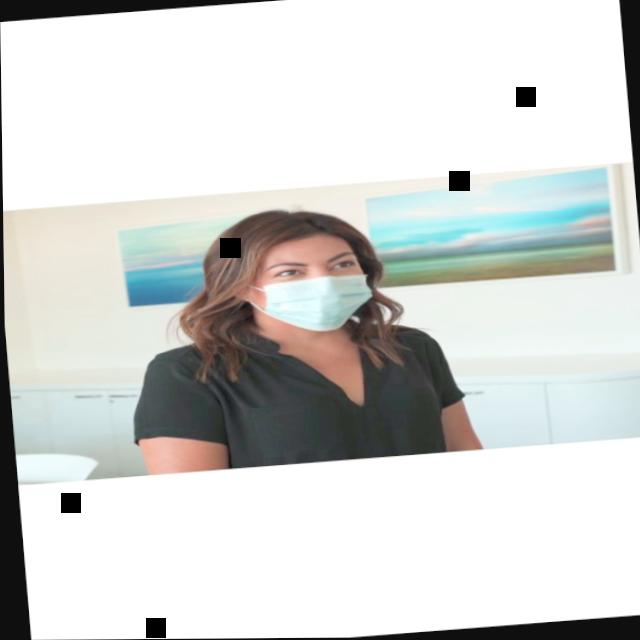Mask: (256, 233, 378, 335)
